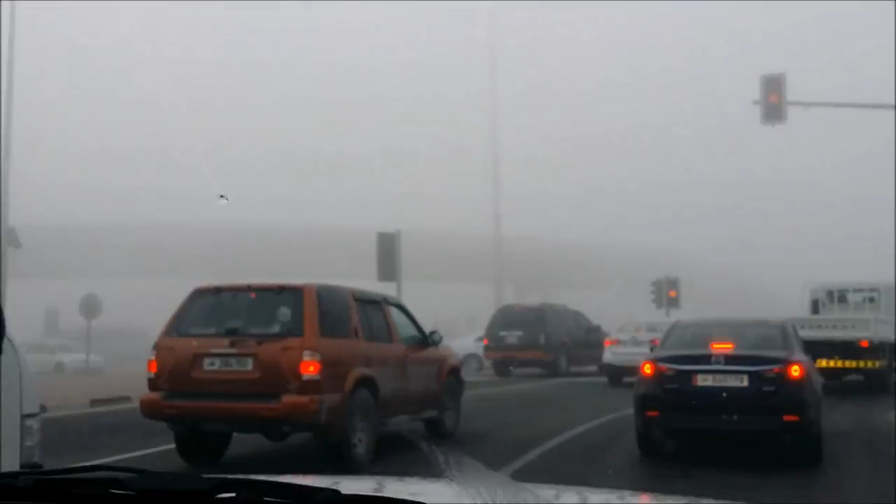bus: (772, 277, 896, 392)
car: (135, 282, 468, 466), (632, 315, 828, 475), (482, 300, 614, 378), (599, 317, 702, 386), (444, 324, 557, 376), (1, 336, 107, 374)
